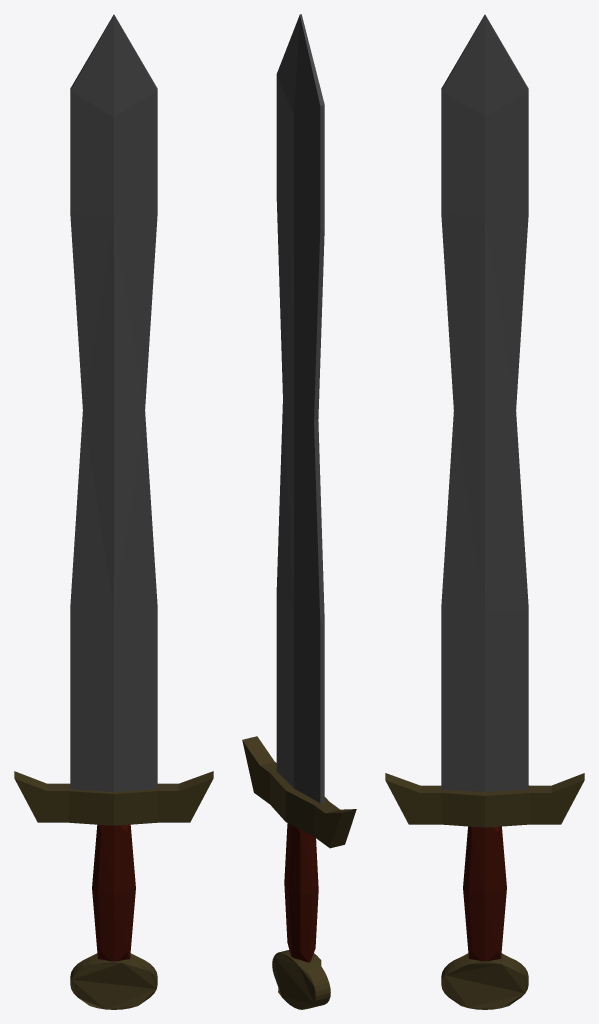
Rendered from sword.obj.
3 views of the same model, side by side, from view 1: azimuth 90°, elevation 25°; view 2: azimuth 210°, elevation 25°; view 3: azimuth 270°, elevation 25° (orthographic).
Visible parts, largest first — view 1: Cube.001; view 2: Cube.001; view 3: Cube.001.
Boxes of the visible parts, x1,y1,x2,y2 form: Cube.001: (14, 14, 213, 1009); Cube.001: (242, 14, 356, 1009); Cube.001: (385, 14, 584, 1009).
Size of the model in its own units: 0.0753 by 2.5 by 0.4562.
